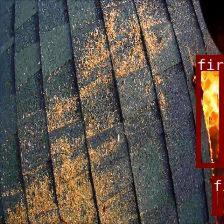fire: (195, 55, 222, 166), (211, 176, 222, 214)
